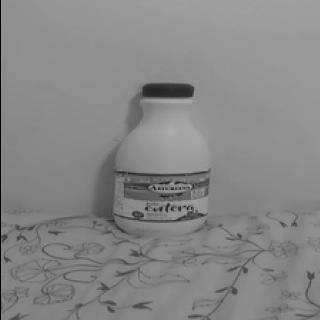plastic_bottles: (104, 72, 212, 244)
